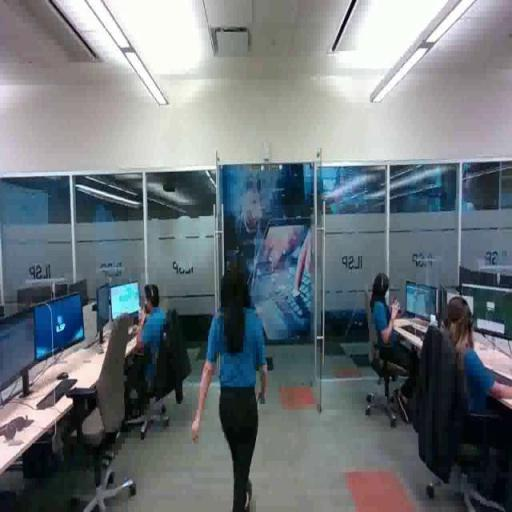person: (195, 259, 271, 512), (425, 289, 512, 488), (367, 275, 431, 427), (110, 284, 186, 407)
